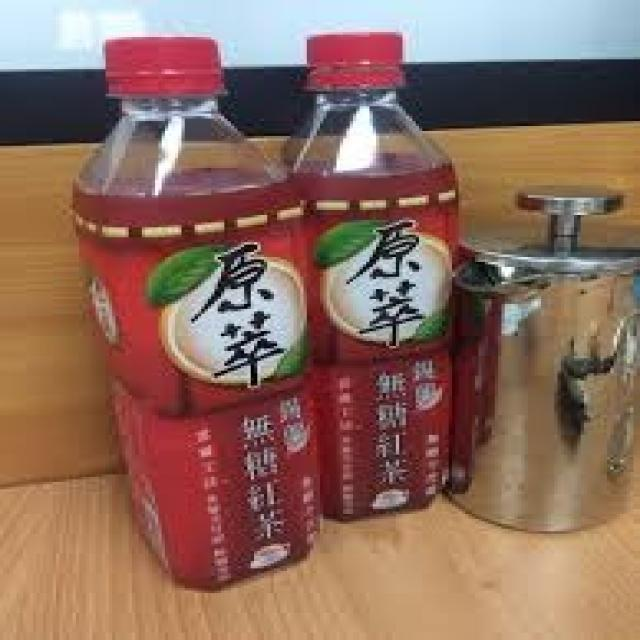YuanTsui_BlackTea: (65, 31, 345, 600), (276, 26, 470, 528)
